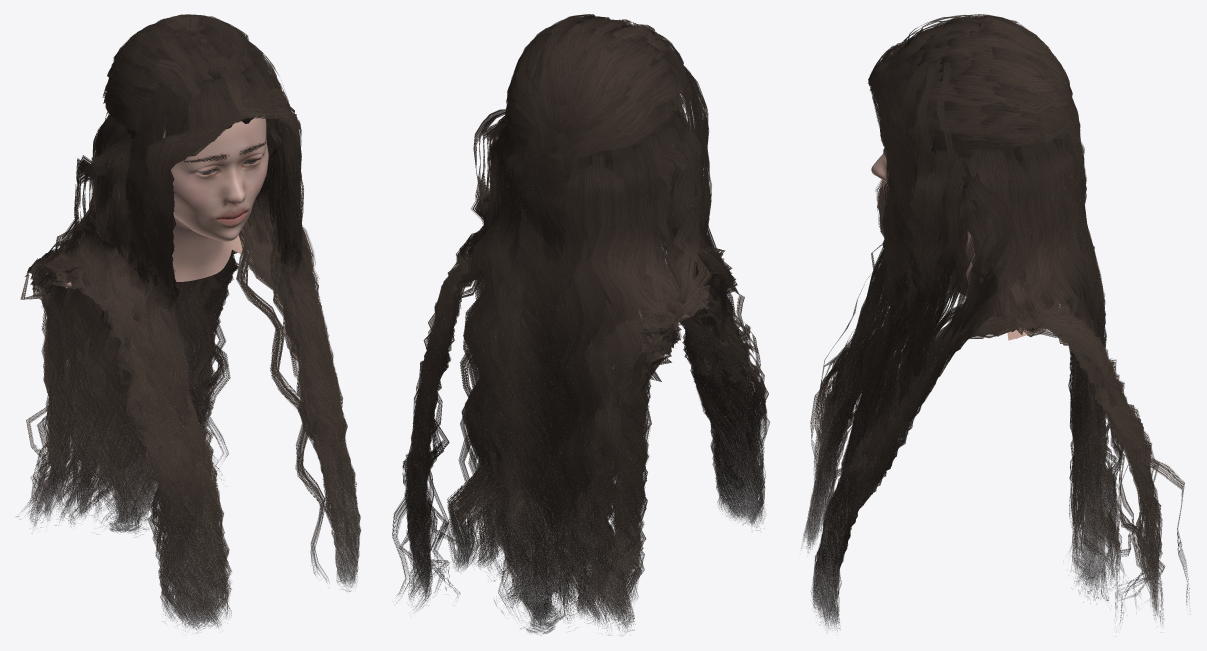
Rendered from head.glb.
3 renders of one model, left to right at view 1: azimuth 30°, elevation 25°; view 2: azimuth 150°, elevation 25°; view 3: azimuth 270°, elevation 25°, orthographic. The views are drawn at different scales.
Visible parts, largest first — view 1: hair-cards, gunian, hair-shell; view 2: hair-cards, hair-shell; view 3: hair-cards, hair-shell, gunian.
Part boxes in pixels (left/top/right/bottom): hair-cards: left=16, top=14, right=360, bottom=630; gunian: left=66, top=116, right=268, bottom=288; hair-shell: left=121, top=23, right=282, bottom=161; hair-cards: left=392, top=14, right=769, bottom=635; hair-shell: left=519, top=17, right=679, bottom=174; hair-cards: left=801, top=14, right=1190, bottom=632; hair-shell: left=897, top=22, right=1056, bottom=188; gunian: left=871, top=150, right=1031, bottom=340.
Bounding box in the file's own units: 0.3225 × 0.7156 × 0.4394.
Materials: 13 (4 with a texture image).
